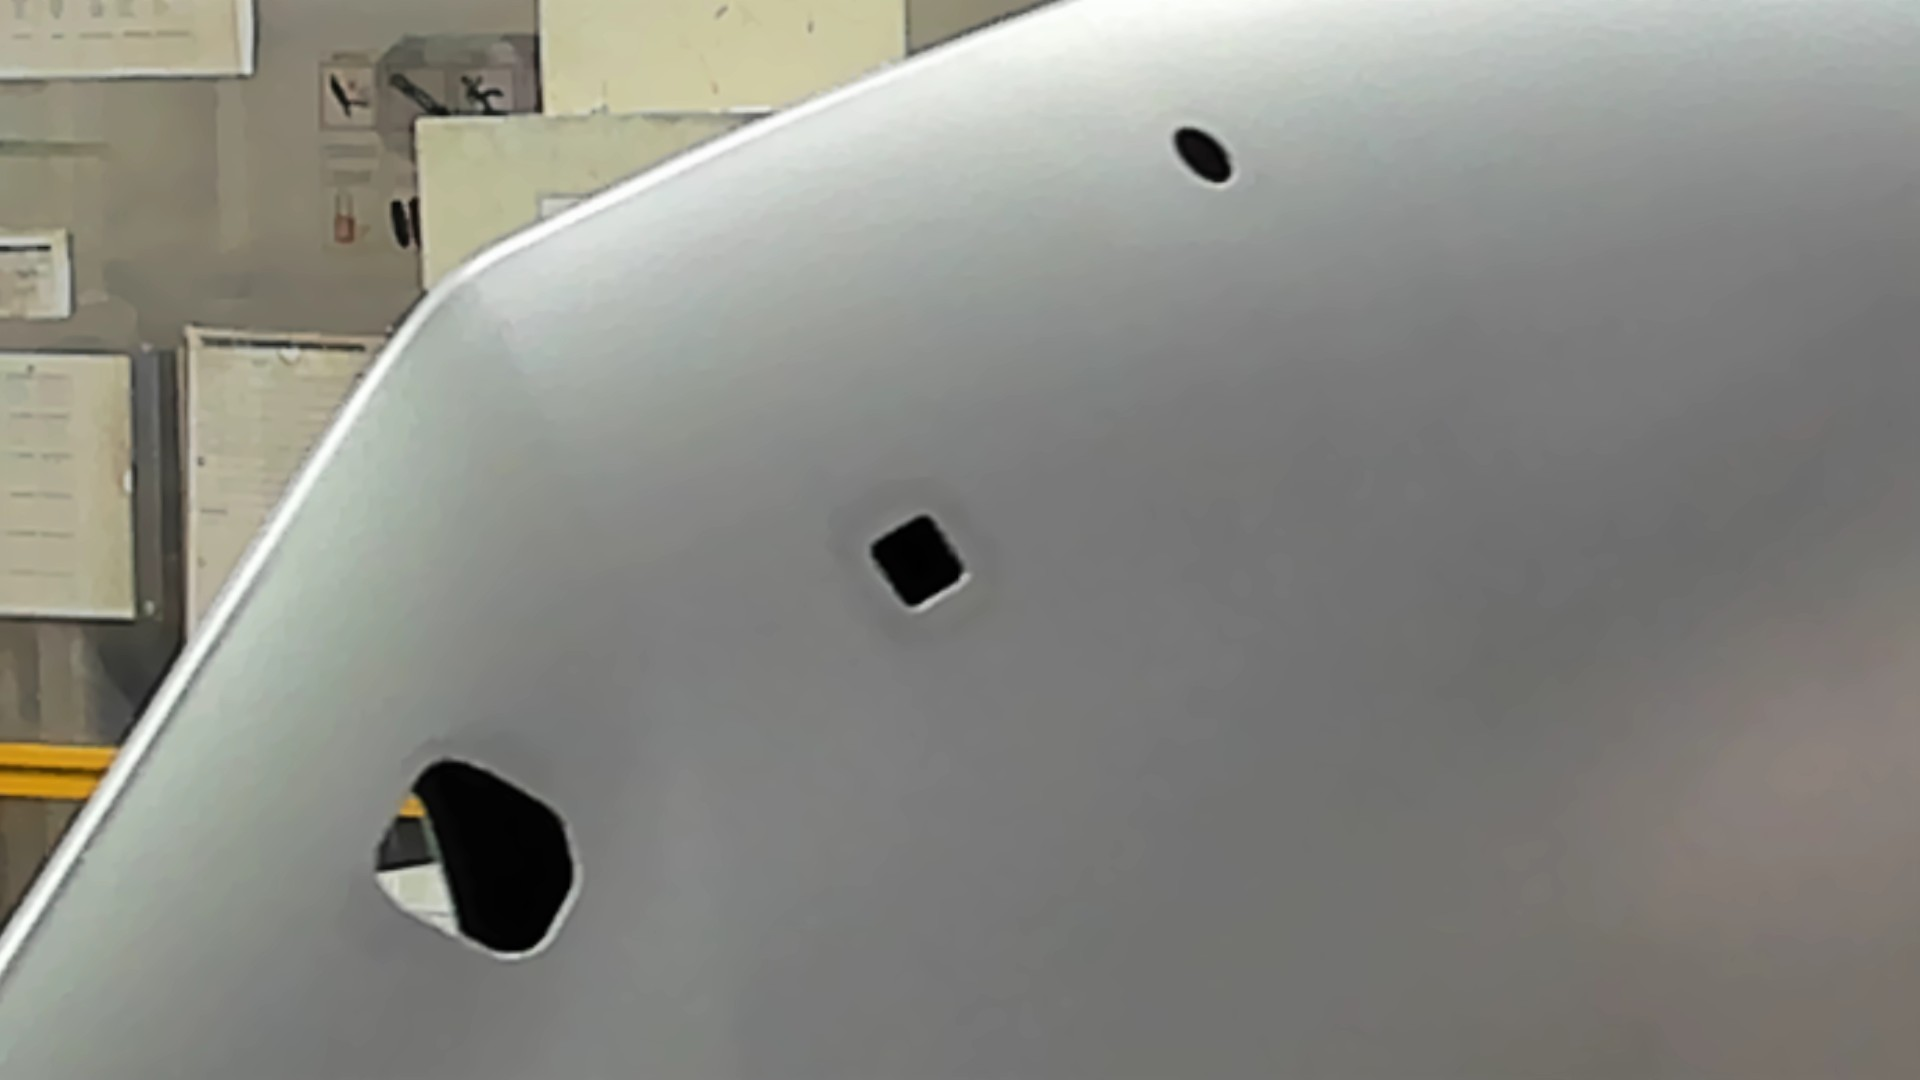chico: (1168, 123, 1240, 190)
grande: (367, 754, 584, 961)
mediano: (865, 508, 971, 615)
